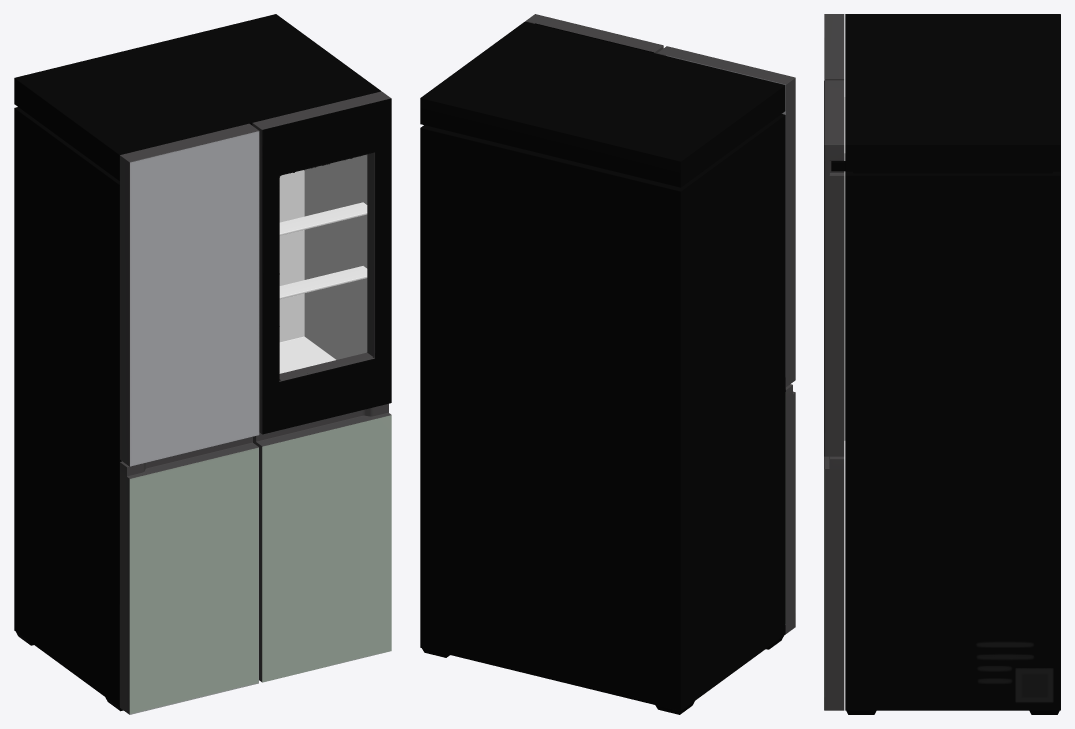
The model's file is electronic_81_01.001.fbx.
3 renders of one model, left to right at view 1: azimuth 30°, elevation 25°; view 2: azimuth 150°, elevation 25°; view 3: azimuth 270°, elevation 25°, orthographic. The views are drawn at different scales.
Parts seen in each view (by area): view 1: electronic_81_01.001; view 2: electronic_81_01.001; view 3: electronic_81_01.001.
Boxes of the visible parts, <box> form: electronic_81_01.001: <box>14,14,391,714</box>; electronic_81_01.001: <box>420,14,795,714</box>; electronic_81_01.001: <box>824,14,1060,714</box>.
Bounding box in the file's own units: 91.4 × 186 × 69.8.
1 material, 1 textured.
